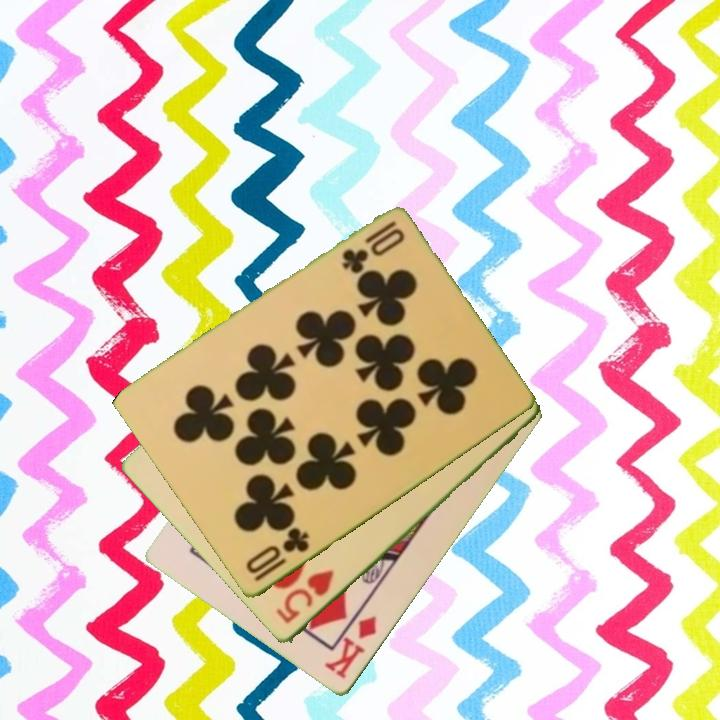10c: (242, 524, 312, 585), (338, 217, 408, 276)
5h: (272, 566, 337, 627)
Kd: (321, 612, 380, 683)
